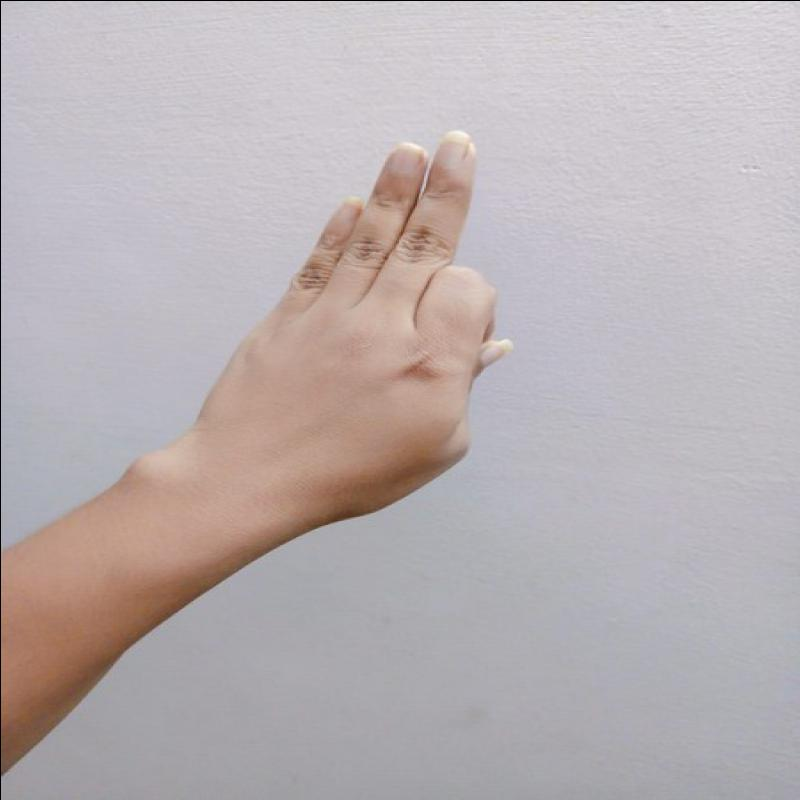Mudraakhyam: (201, 115, 534, 535)
